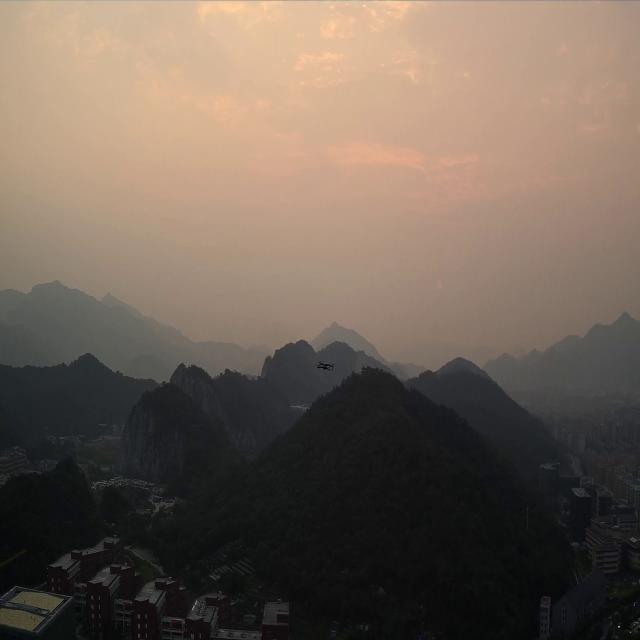drone: (315, 361, 334, 371)
